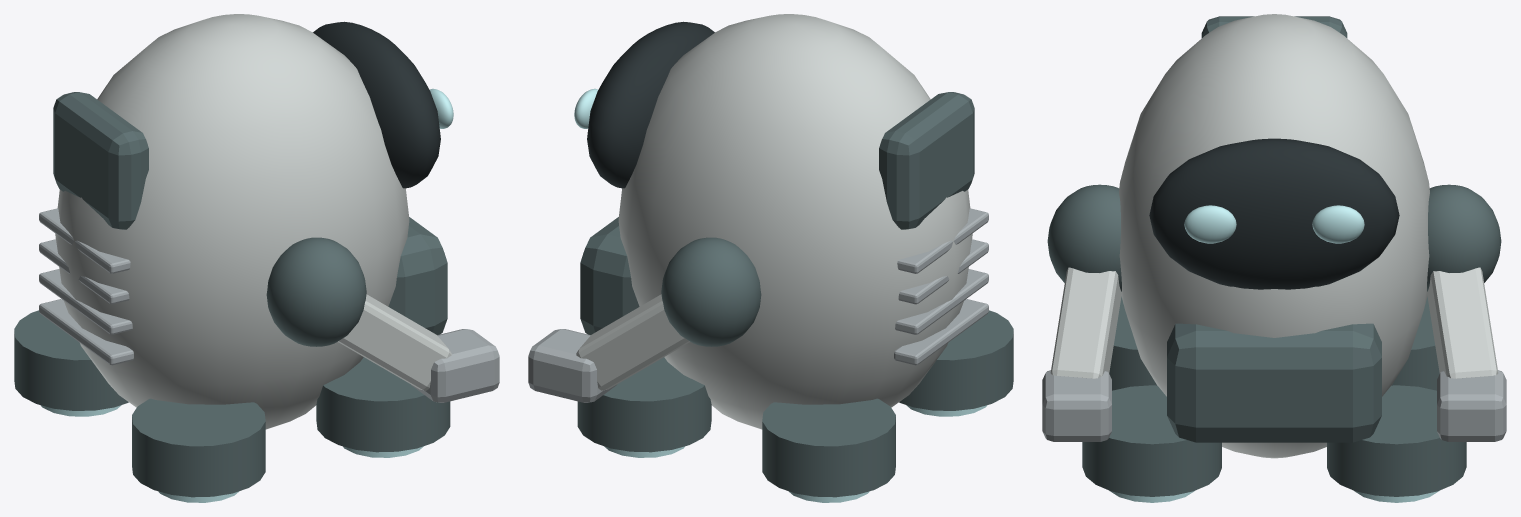
The model's file is SM_Robot.fbx.
3 renders of one model, left to right at view 1: azimuth 30°, elevation 25°; view 2: azimuth 150°, elevation 25°; view 3: azimuth 270°, elevation 25°, orthographic. The views are drawn at different scales.
Visible parts, largest first — view 1: SM_Robot; view 2: SM_Robot; view 3: SM_Robot.
Boxes of the visible parts, box(x1,y1,x2,y2) form: SM_Robot: box(14, 14, 499, 502); SM_Robot: box(528, 14, 1013, 502); SM_Robot: box(1042, 14, 1506, 502).
Bounding box in the file's own units: 71 × 79.8 × 79.
